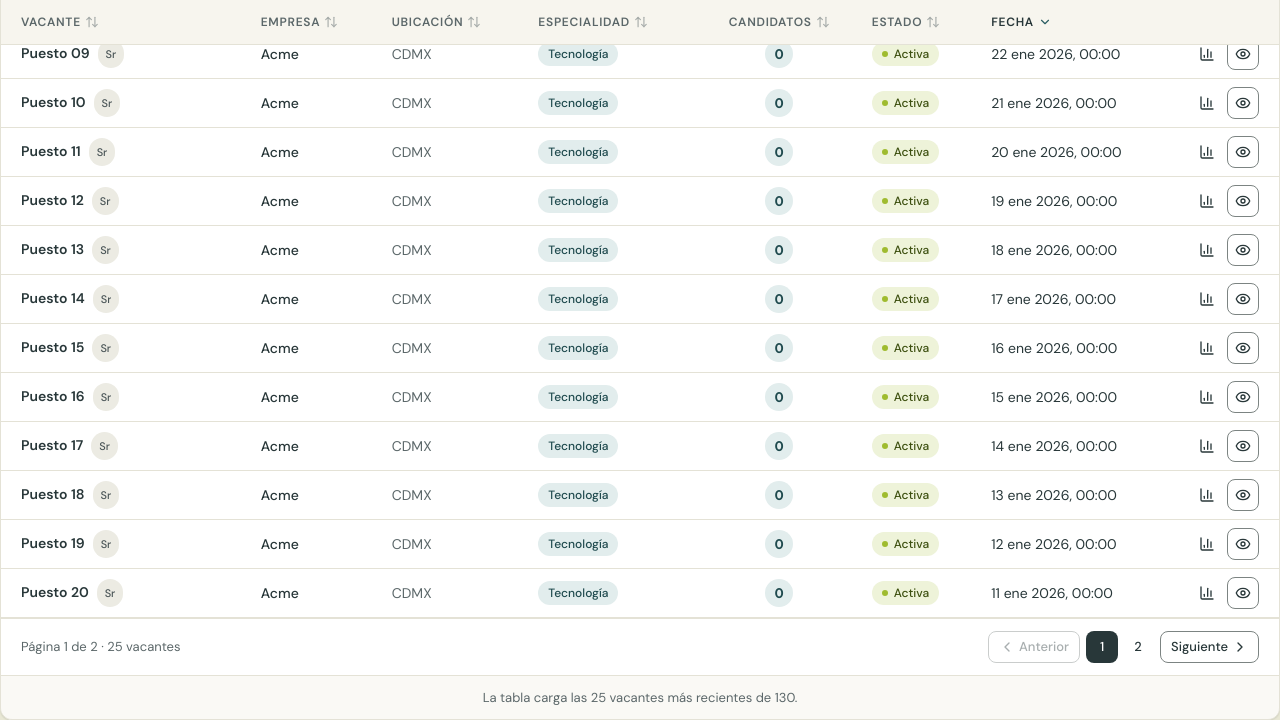
Test case: /admin (dashboard) › ADM-003: la tabla pagina en vez de cortar en 20 y no descarga solicitudes de empresa
(page scrolled)
Expected: the text "Puesto 21" is not shown
Step 1. Click the button "Siguiente" → (1210, 647), box [1160, 631, 1259, 663]
(page scrolled)
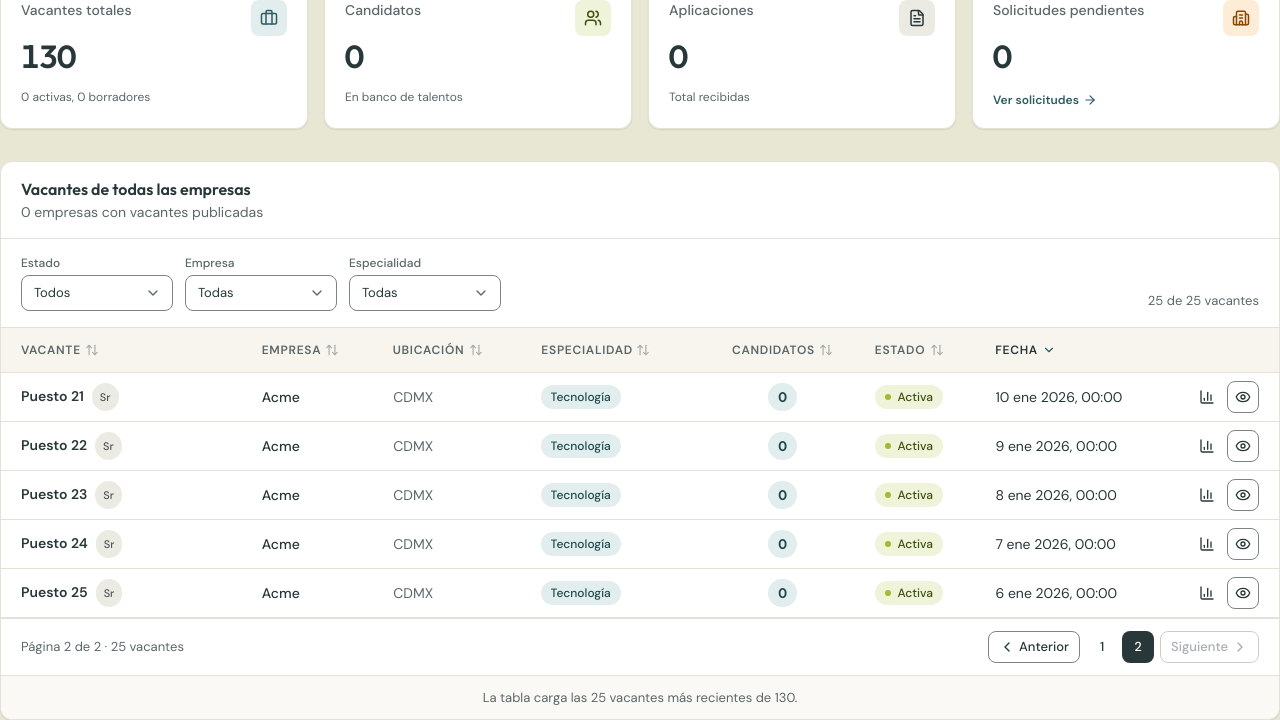
Expected: the text "La tabla carga las 25 vacantes más recientes de 130." is shown, [1, 675, 1279, 719]
Expected: the text "Puesto 21" is shown, [21, 387, 84, 406]
Expected: the text "Puesto 25" is shown, [21, 583, 88, 602]
